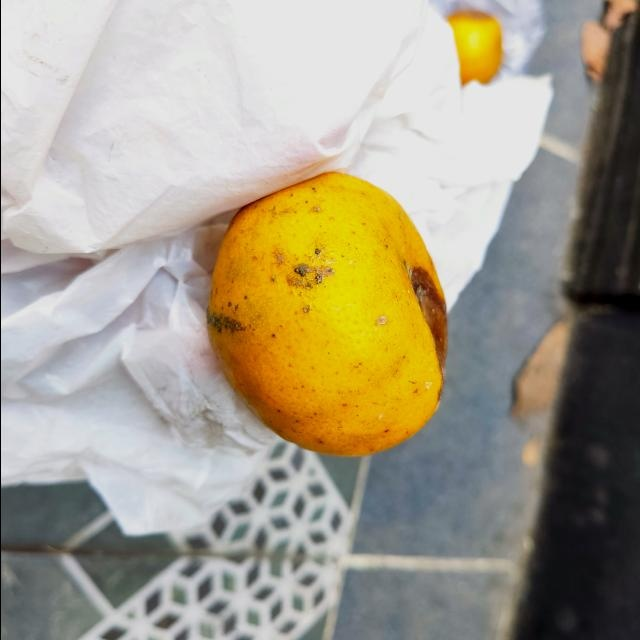agrume: (210, 169, 447, 455)
